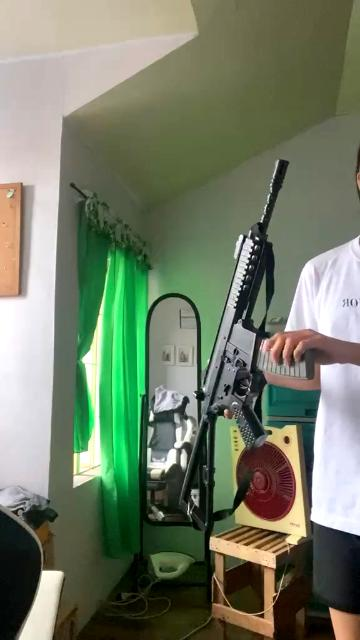rifle: (185, 144, 312, 468)
